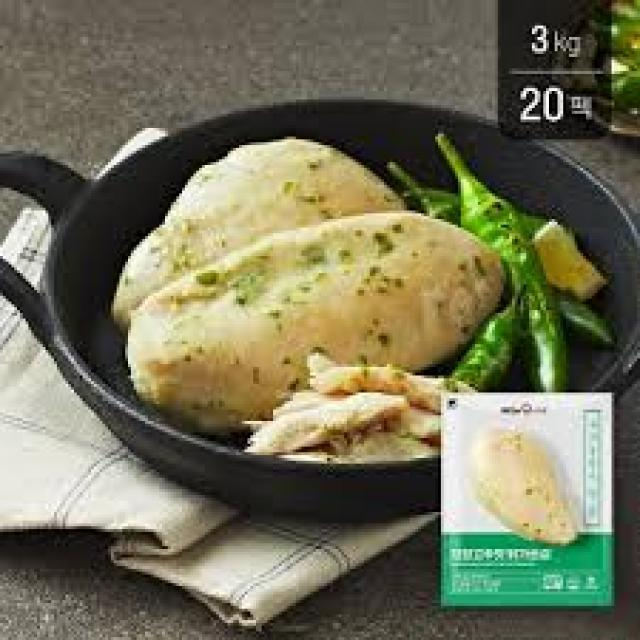chicken: (125, 212, 515, 432), (111, 137, 408, 331), (437, 393, 619, 607)
